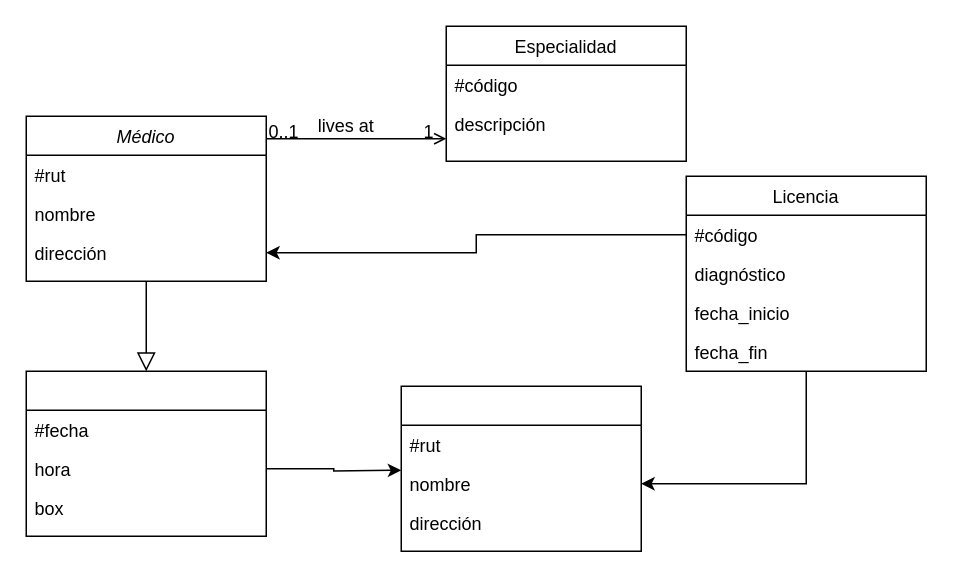
Image size: 953x578. Some labels were removed from this diagram. The shapes that lost their labels are listed below. From the top down, each one's box as (x1, y1, x2, y2) in pixels, then its label:
(25, 370, 266, 536): Consulta
(400, 385, 641, 551): Paciente
